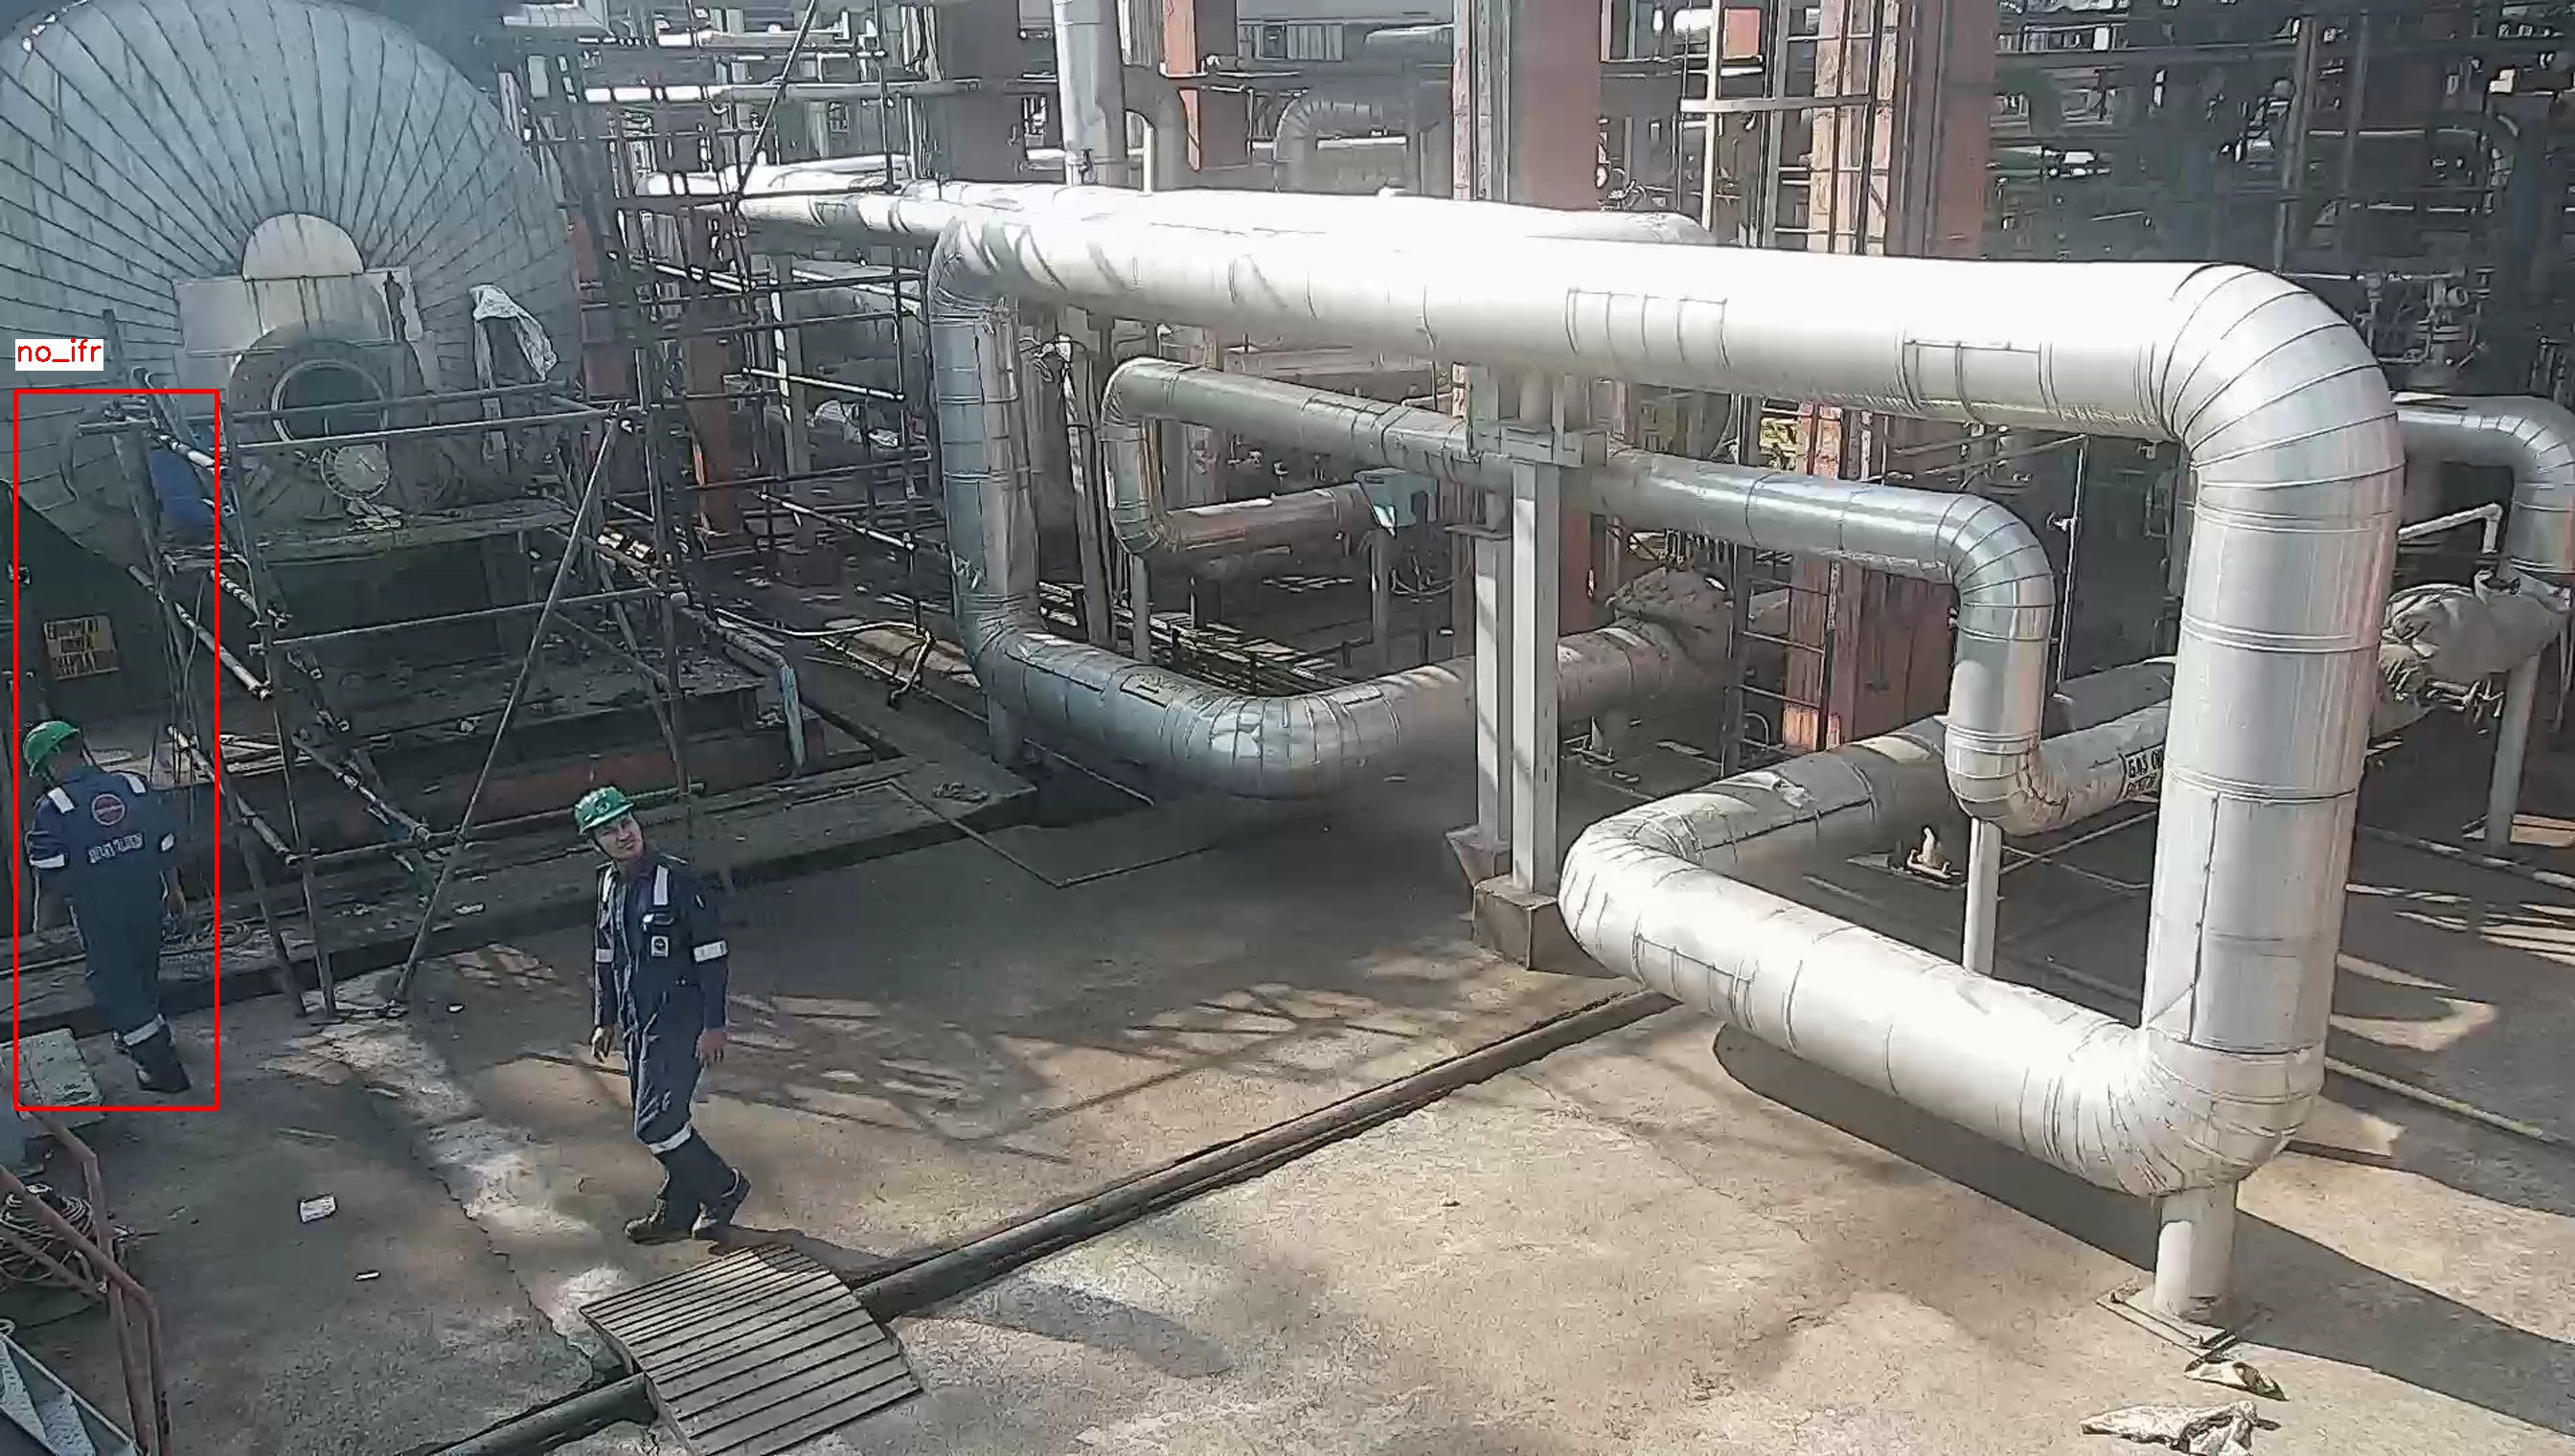Boots: (619, 1187, 692, 1244), (695, 1173, 753, 1242), (131, 1058, 195, 1102)
Helmets: (21, 720, 94, 771), (571, 787, 638, 840)
IFR_Suit: (587, 847, 734, 1176), (25, 771, 193, 1054)
